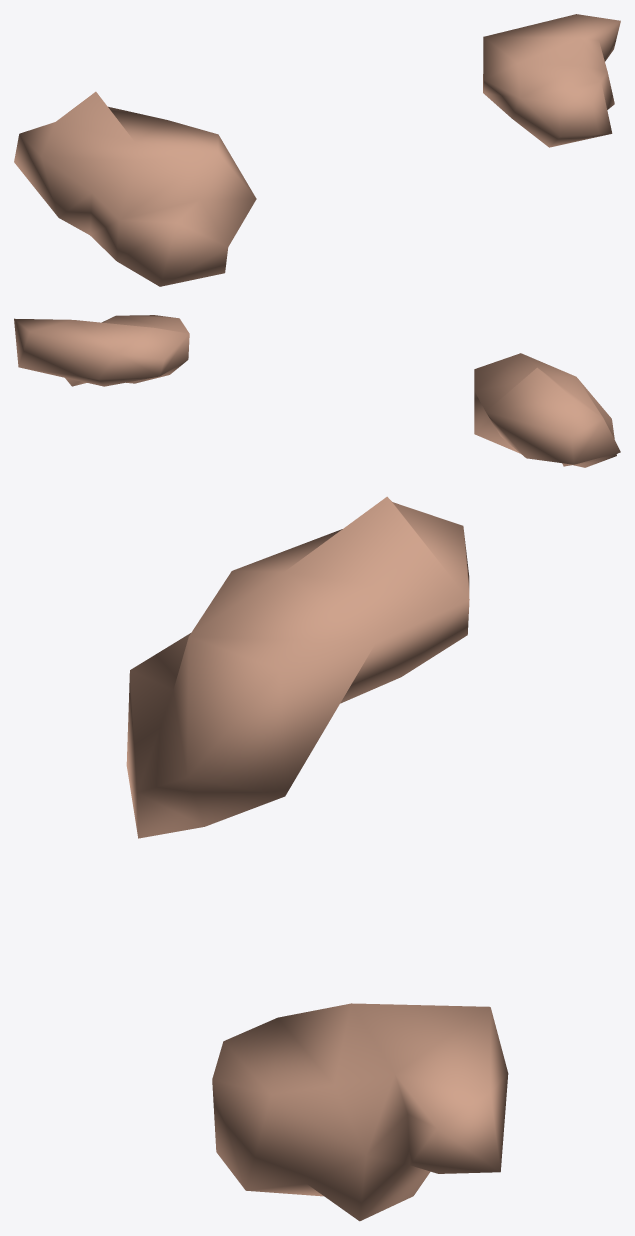
File: fetus.endocrine.LOD3.glb
The picture shows the model from 3 angles, top to bottom: view 1: azimuth 30°, elevation 25°; view 2: azimuth 150°, elevation 25°; view 3: azimuth 270°, elevation 25°; orthographic projection. The views are drawn at different scales.
Visible parts, largest first — view 1: FETUS.ENDOCRINE.ADRENAL_GLAND.R, FETUS.ENDOCRINE.ADRENAL_GLAND.L; view 2: FETUS.ENDOCRINE.ADRENAL_GLAND.R, FETUS.ENDOCRINE.ADRENAL_GLAND.L; view 3: FETUS.ENDOCRINE.ADRENAL_GLAND.R, FETUS.ENDOCRINE.ADRENAL_GLAND.L.
Part boxes in pixels (left/top/right/bottom): FETUS.ENDOCRINE.ADRENAL_GLAND.R: left=14, top=91, right=256, bottom=286; FETUS.ENDOCRINE.ADRENAL_GLAND.L: left=483, top=14, right=620, bottom=147; FETUS.ENDOCRINE.ADRENAL_GLAND.R: left=474, top=353, right=620, bottom=467; FETUS.ENDOCRINE.ADRENAL_GLAND.L: left=14, top=315, right=189, bottom=386; FETUS.ENDOCRINE.ADRENAL_GLAND.R: left=126, top=496, right=469, bottom=838; FETUS.ENDOCRINE.ADRENAL_GLAND.L: left=212, top=1003, right=508, bottom=1221.
Bounding box in the file's own units: 0.0338 × 0.00802 × 0.00979.
